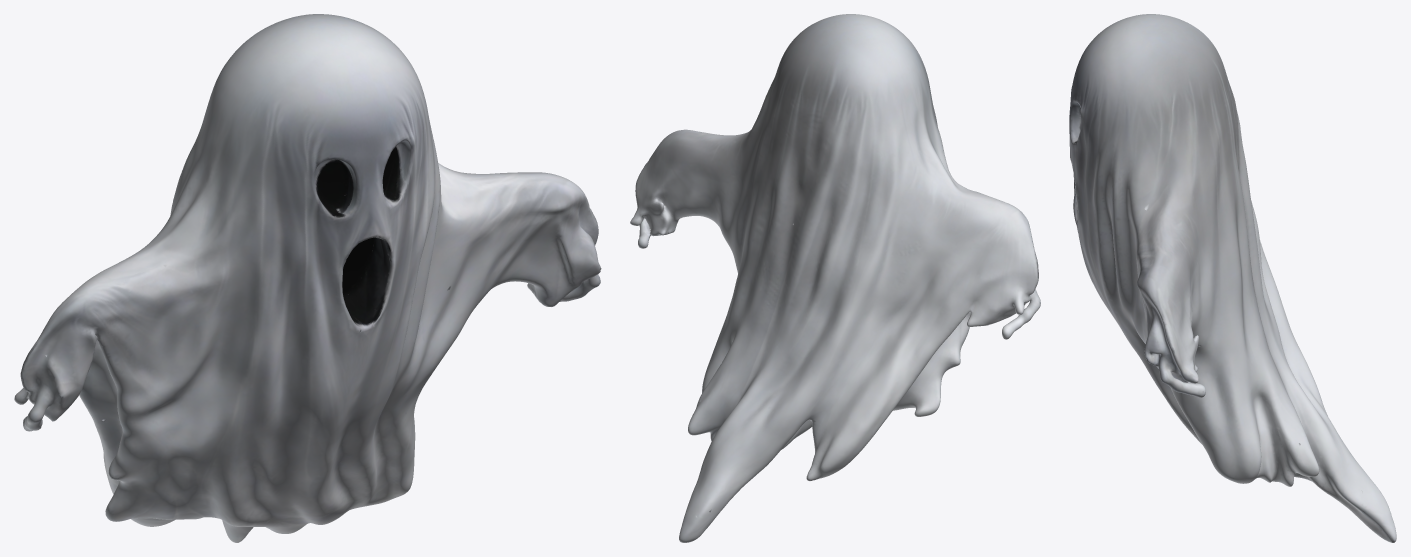
The model's file is animated.gltf.
3 views of the same model, side by side, from view 1: azimuth 30°, elevation 25°; view 2: azimuth 150°, elevation 25°; view 3: azimuth 270°, elevation 25° (orthographic). The views are drawn at different scales.
Parts seen in each view (by area): view 1: Object_4; view 2: Object_4; view 3: Object_4.
Part boxes in pixels (<box>): Object_4: <box>14,14,601,542</box>; Object_4: <box>630,14,1040,542</box>; Object_4: <box>1069,14,1396,542</box>.
Bounding box in the file's own units: 1.86 × 2 × 1.21.
Materials: 1 (1 with a texture image).
